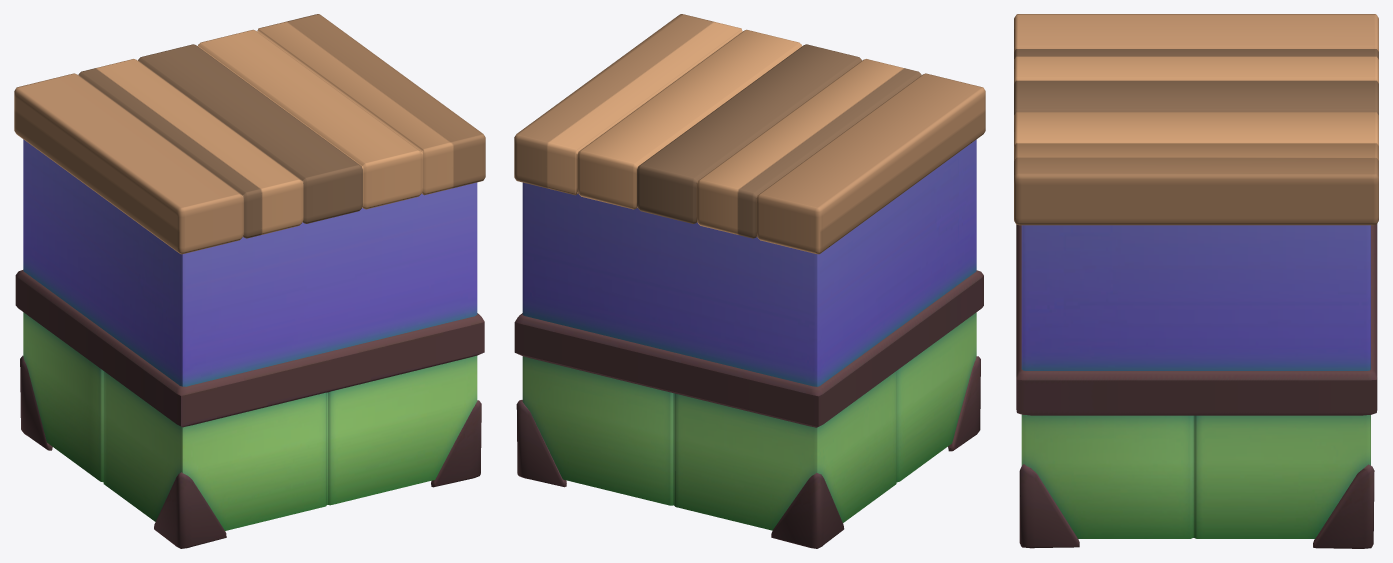
Rendered from HoopsBox4.fbx.
3 renders of one model, left to right at view 1: azimuth 30°, elevation 25°; view 2: azimuth 150°, elevation 25°; view 3: azimuth 270°, elevation 25°, orthographic. The views are drawn at different scales.
Parts seen in each view (by area): view 1: ENV_S02_MovableBox_MO_0, ENV_S02_MovableBox_MO_1; view 2: ENV_S02_MovableBox_MO_0, ENV_S02_MovableBox_MO_1; view 3: ENV_S02_MovableBox_MO_0, ENV_S02_MovableBox_MO_1.
Part boxes in pixels (<box>): ENV_S02_MovableBox_MO_0: <box>15,139,484,548</box>; ENV_S02_MovableBox_MO_1: <box>14,14,485,254</box>; ENV_S02_MovableBox_MO_0: <box>514,139,983,548</box>; ENV_S02_MovableBox_MO_1: <box>514,14,985,254</box>; ENV_S02_MovableBox_MO_0: <box>1016,224,1377,548</box>; ENV_S02_MovableBox_MO_1: <box>1014,14,1378,225</box>.
Bounding box in the file's own units: 12.3 × 13.16 × 11.63.
